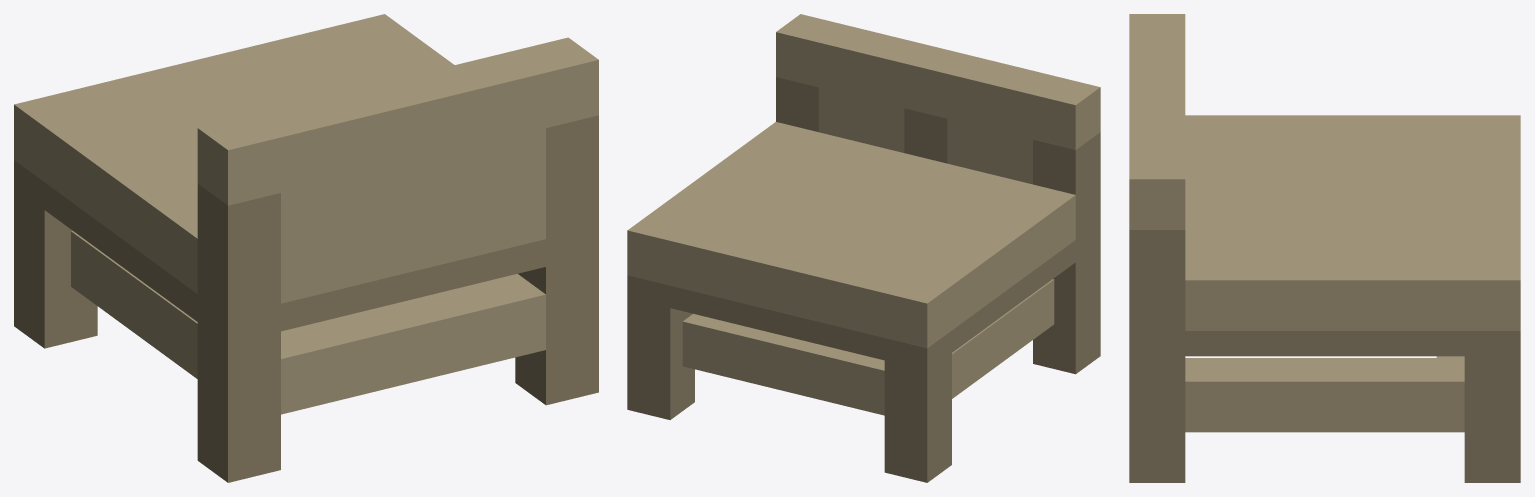
Rendered from banco_tallado_arcos_01.glb.
3 renders of one model, left to right at view 1: azimuth 30°, elevation 25°; view 2: azimuth 150°, elevation 25°; view 3: azimuth 270°, elevation 25°, orthographic. The views are drawn at different scales.
Visible parts, largest first — view 1: banco_tallado_arcos; view 2: banco_tallado_arcos; view 3: banco_tallado_arcos.
Part boxes in pixels (x1,y1,x2,y2): banco_tallado_arcos: (14, 14, 598, 482); banco_tallado_arcos: (627, 14, 1100, 482); banco_tallado_arcos: (1129, 14, 1520, 482).
Size of the model in its own units: 1 by 0.8571 by 1.
